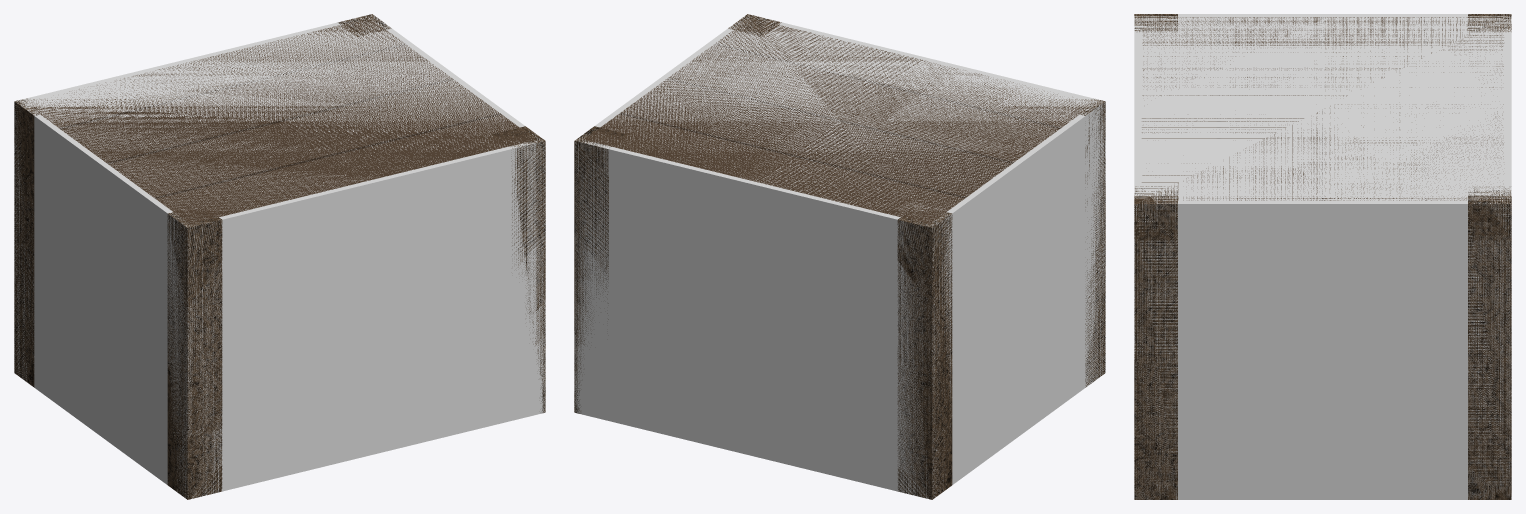
Rendered from crate.glb.
3 renders of one model, left to right at view 1: azimuth 30°, elevation 25°; view 2: azimuth 150°, elevation 25°; view 3: azimuth 270°, elevation 25°, orthographic. The views are drawn at different scales.
Parts seen in each view (by area): view 1: COL_HULL_crate, crate; view 2: COL_HULL_crate, crate; view 3: COL_HULL_crate, crate.
Part boxes in pixels (<box>): COL_HULL_crate: <box>14,14,545,498</box>; crate: <box>14,14,545,499</box>; COL_HULL_crate: <box>574,14,1105,498</box>; crate: <box>574,14,1105,499</box>; COL_HULL_crate: <box>1134,14,1511,499</box>; crate: <box>1134,14,1511,499</box>.
Size of what is drawn, in the model's own units: 0.62 by 0.45 by 0.52.
Materials: 2 (2 with a texture image).
